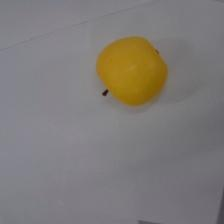yellow: (97, 37, 168, 106)
